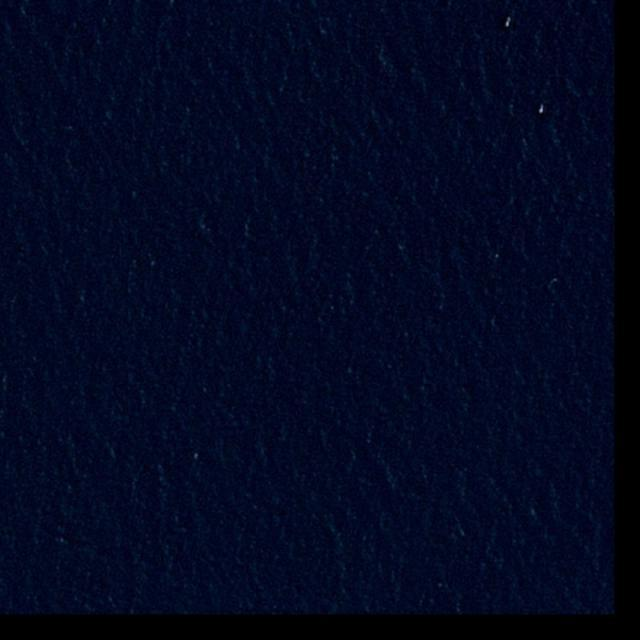ship: (539, 109, 543, 114), (506, 22, 510, 27)
